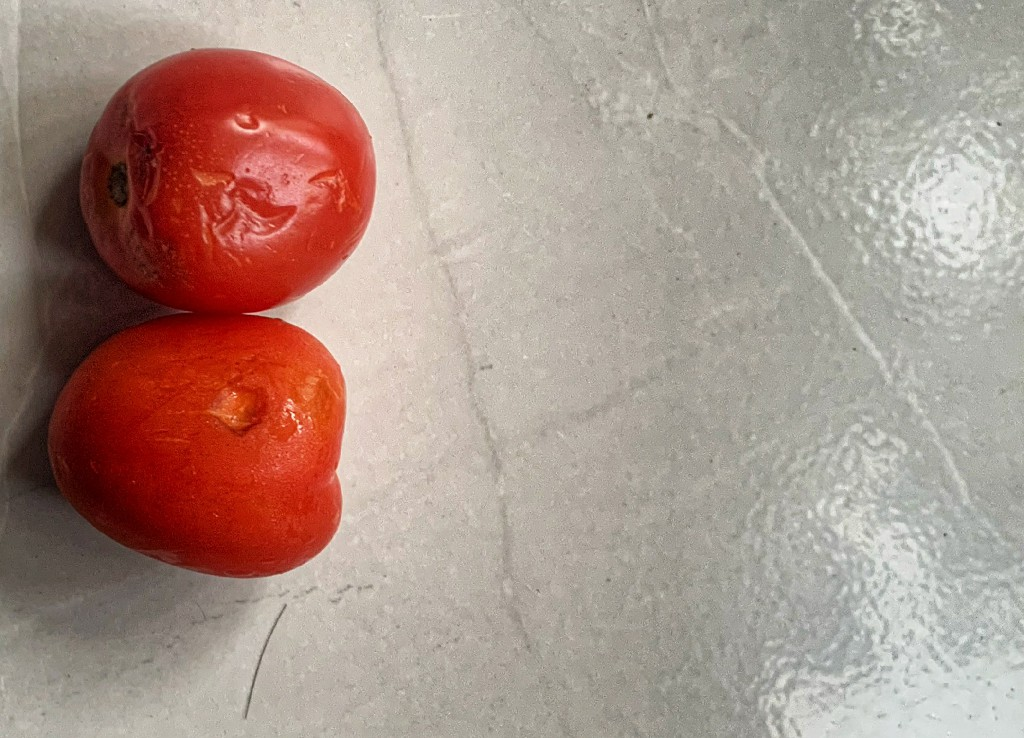NG: (76, 45, 378, 319), (42, 318, 347, 582)
